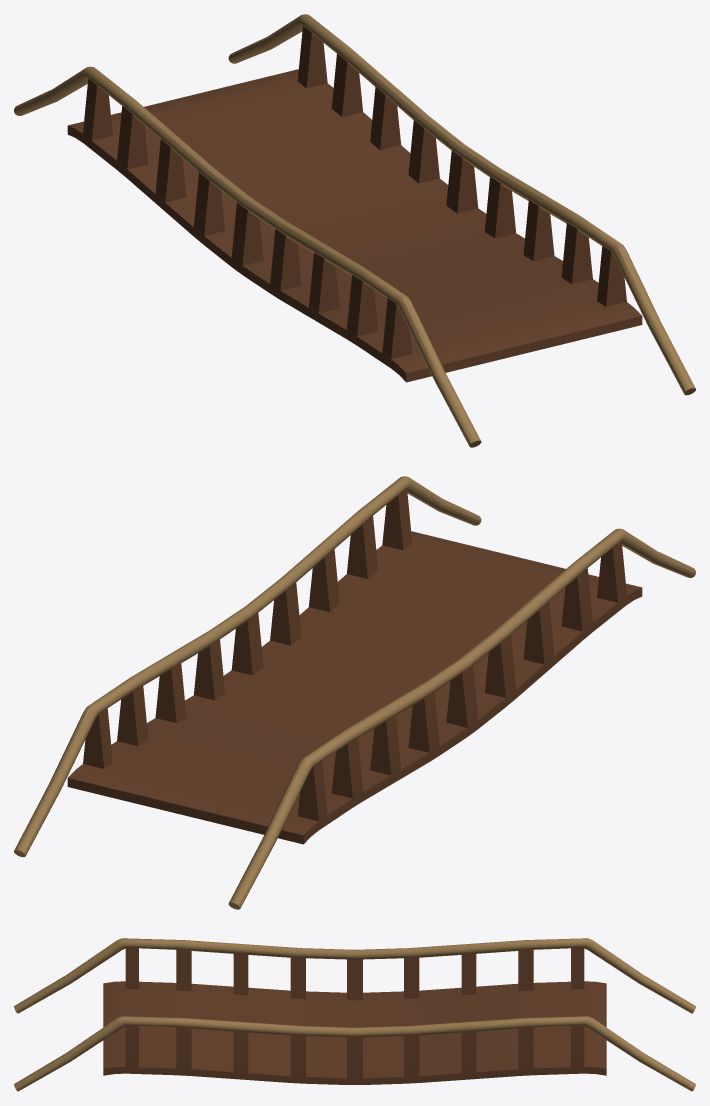
The model's file is Bridge_Rope.fbx.
The picture shows the model from 3 angles, top to bottom: view 1: azimuth 30°, elevation 25°; view 2: azimuth 150°, elevation 25°; view 3: azimuth 270°, elevation 25°; orthographic projection. The views are drawn at different scales.
Parts seen in each view (by area): view 1: Bridge_Rope; view 2: Bridge_Rope; view 3: Bridge_Rope.
Boxes of the visible parts, x1,y1,x2,y2 form: Bridge_Rope: [14, 14, 695, 447]; Bridge_Rope: [14, 476, 695, 909]; Bridge_Rope: [14, 938, 695, 1091].
Size of the model in its own units: 406 by 164 by 1366.
